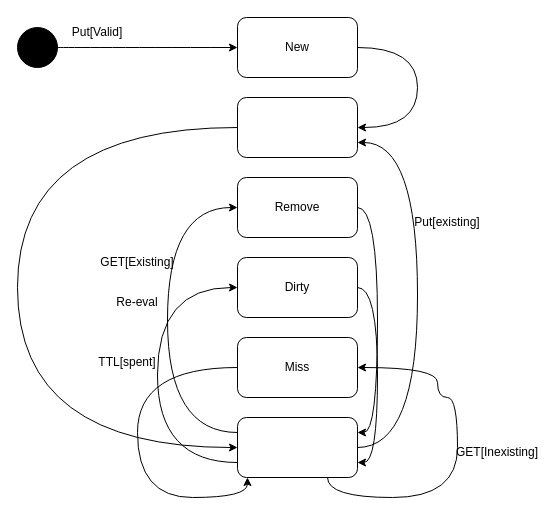
Some shapes in this 556 by 515 pixel diagram are drawn without their labels. Each missing label, with the centre of its shape:
"Idle" goes at (297,447).
"Update" goes at (297,127).
